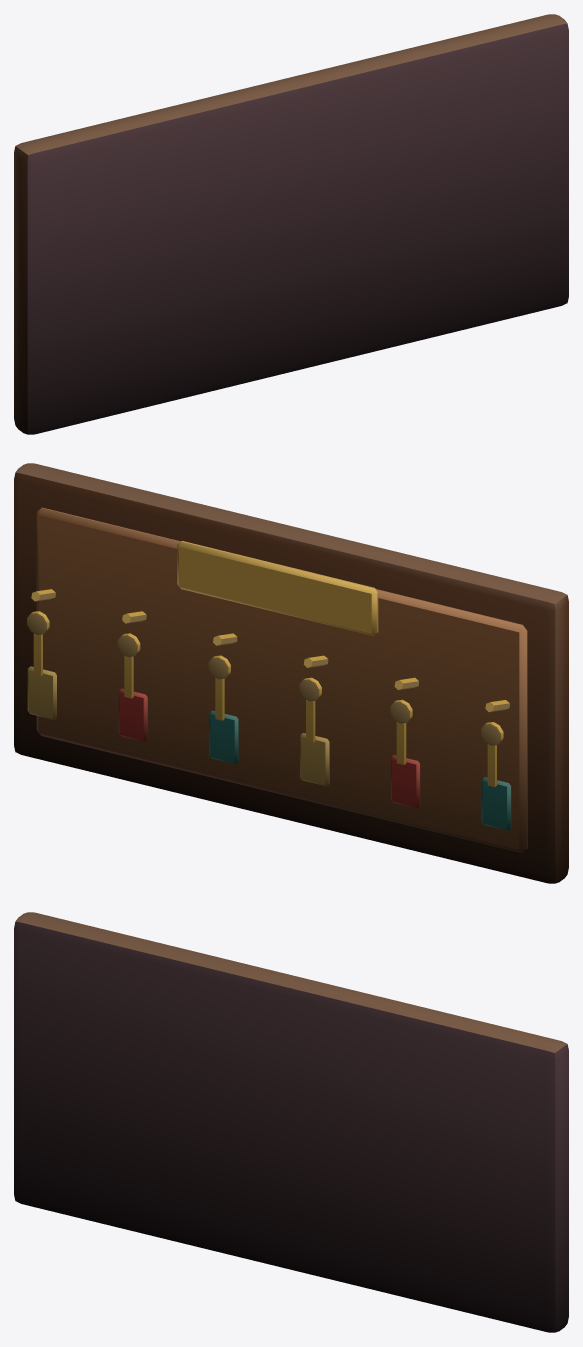
Rendered from KeyRack.fbx.
3 views of the same model, one above another, from view 1: azimuth 30°, elevation 25°; view 2: azimuth 150°, elevation 25°; view 3: azimuth 330°, elevation 25° (orthographic).
Parts seen in each view (by area): view 1: SM_Prop_KeyRack; view 2: SM_Prop_KeyRack; view 3: SM_Prop_KeyRack.
Boxes of the visible parts, x1=… form: SM_Prop_KeyRack: x1=14, y1=14, x2=568, y2=434; SM_Prop_KeyRack: x1=14, y1=463, x2=568, y2=883; SM_Prop_KeyRack: x1=14, y1=912, x2=568, y2=1332.
Bounding box in the file's own units: 6 × 3 × 0.7154.
